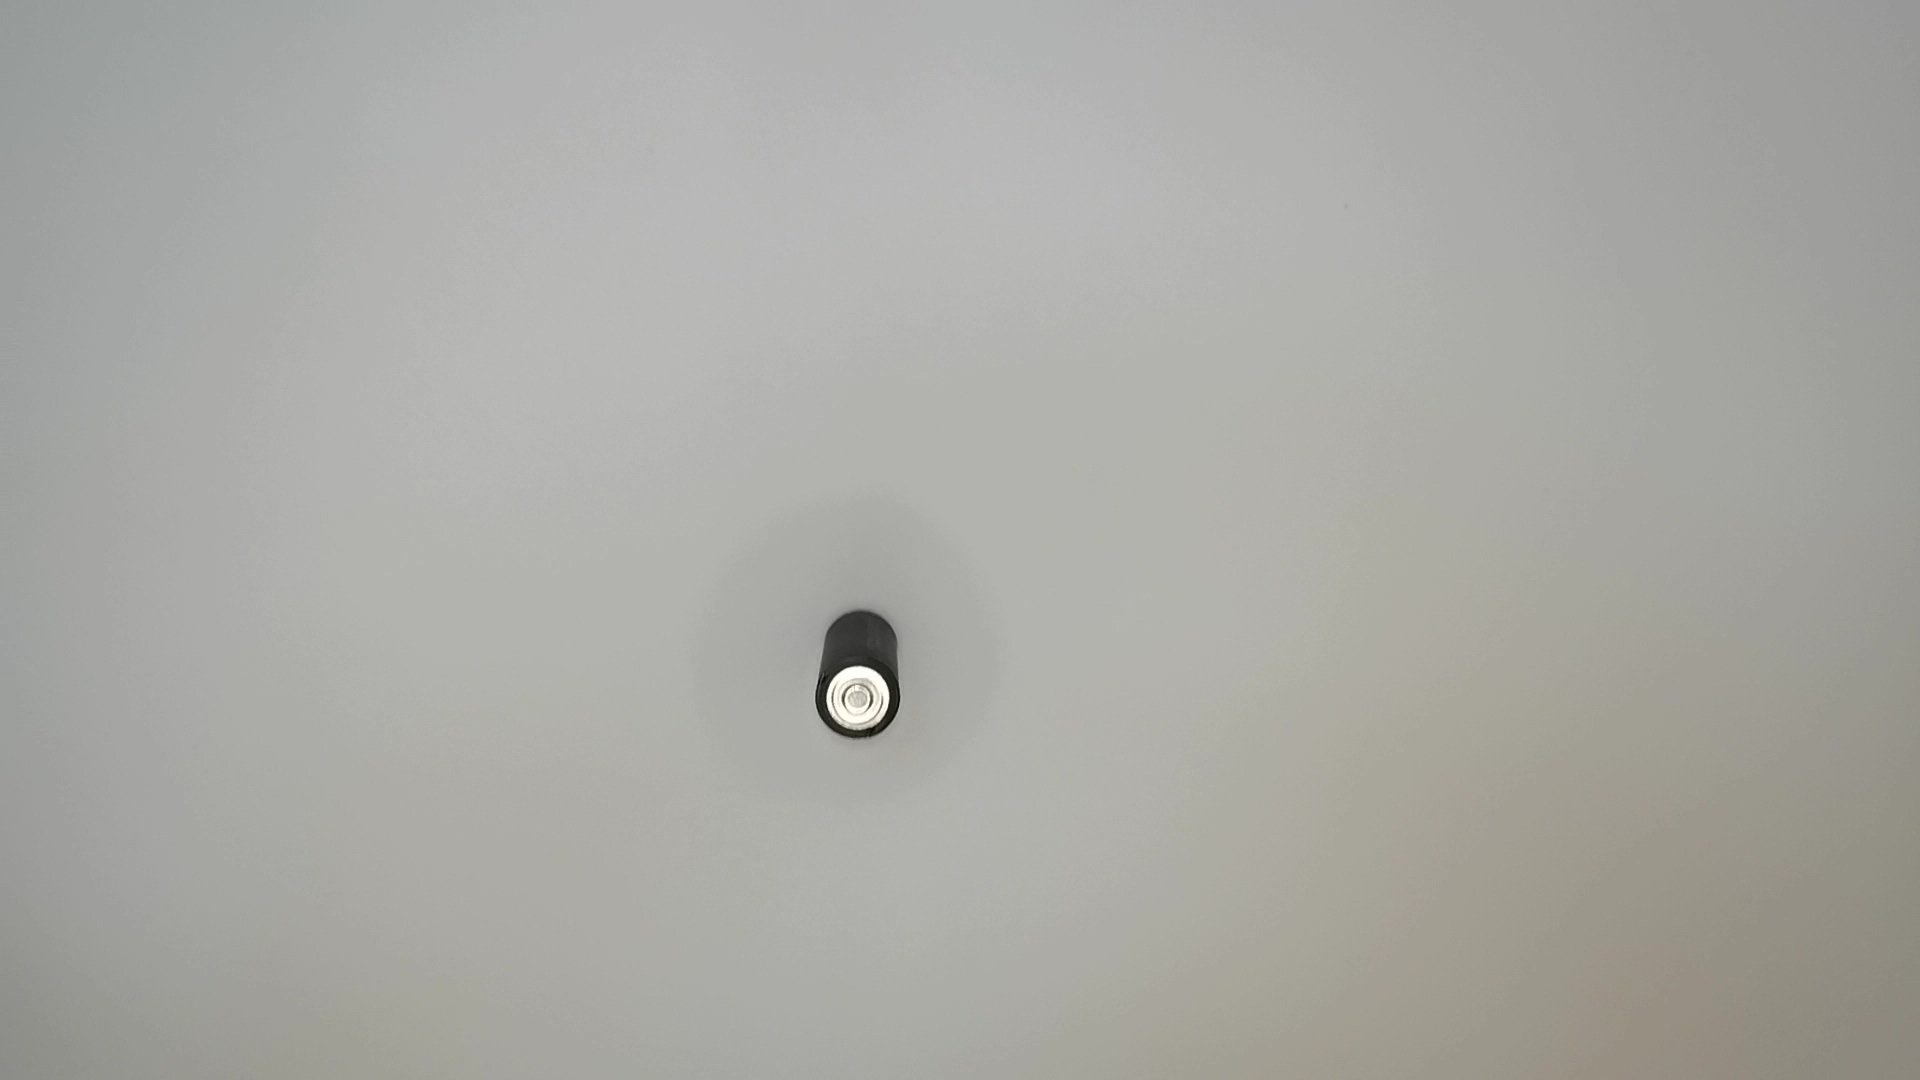battery: (812, 608, 913, 745)
